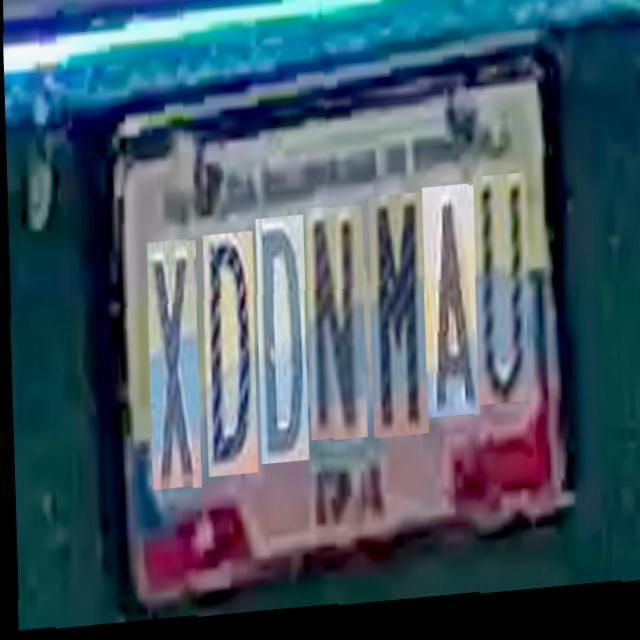A: (420, 188, 477, 422)
D: (200, 234, 255, 479), (253, 218, 306, 468)
M: (366, 196, 426, 442)
N: (303, 209, 364, 445)
U: (470, 178, 526, 410)
X: (144, 242, 198, 493)
